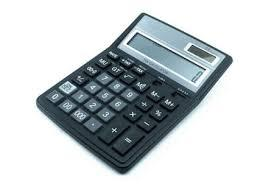Calculator: (29, 10, 237, 180)
